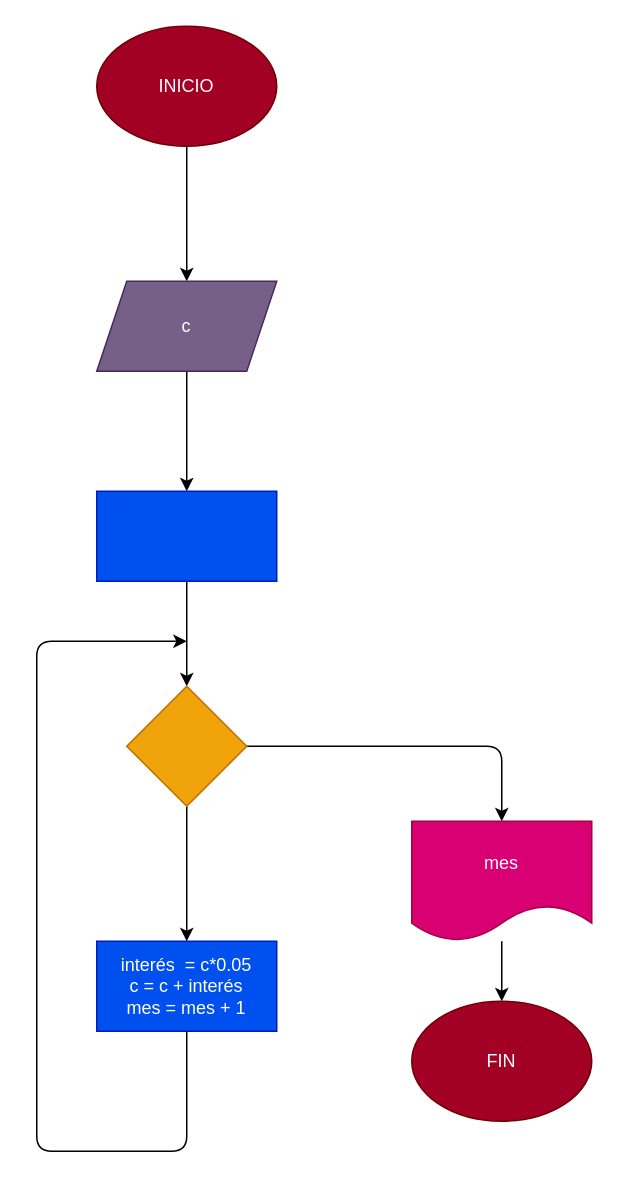
Image size: 618x1190. Some labels were removed from this diagram. The box of each missing label's shape, as (x1, y1, x2, y2) in pixels:
c < c2: (125, 685, 247, 806)
interés = 0.05 meses = 0 c2 = c + c: (95, 490, 277, 581)
